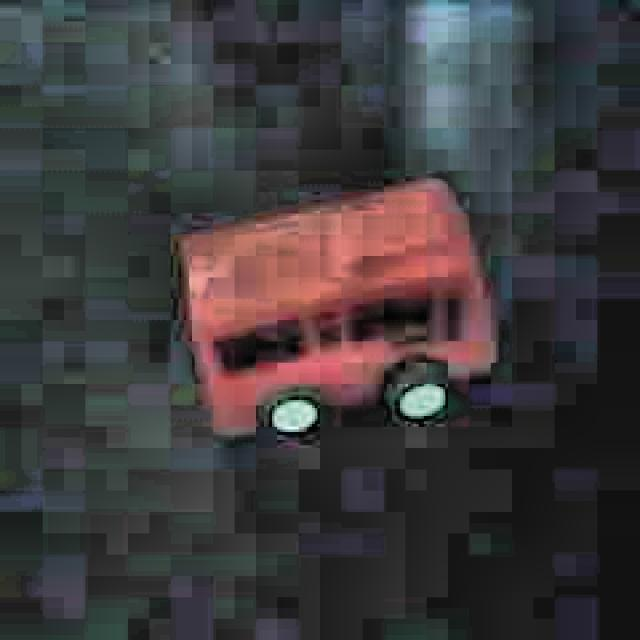bus: (167, 169, 506, 459)
